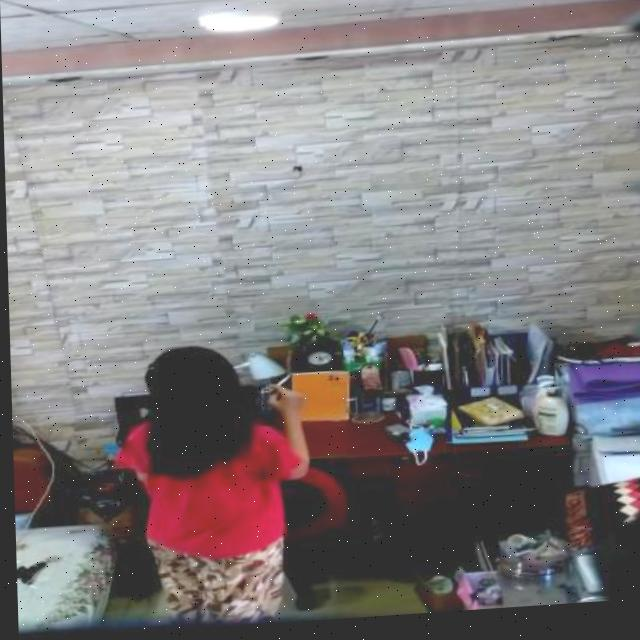cigarette: (275, 379, 288, 389)
